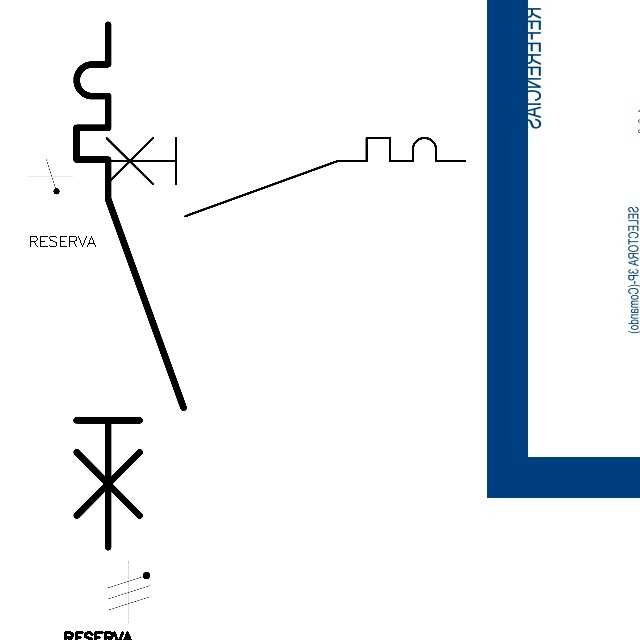interruptor_termomagnetico: (63, 11, 197, 560), (73, 128, 474, 226)
